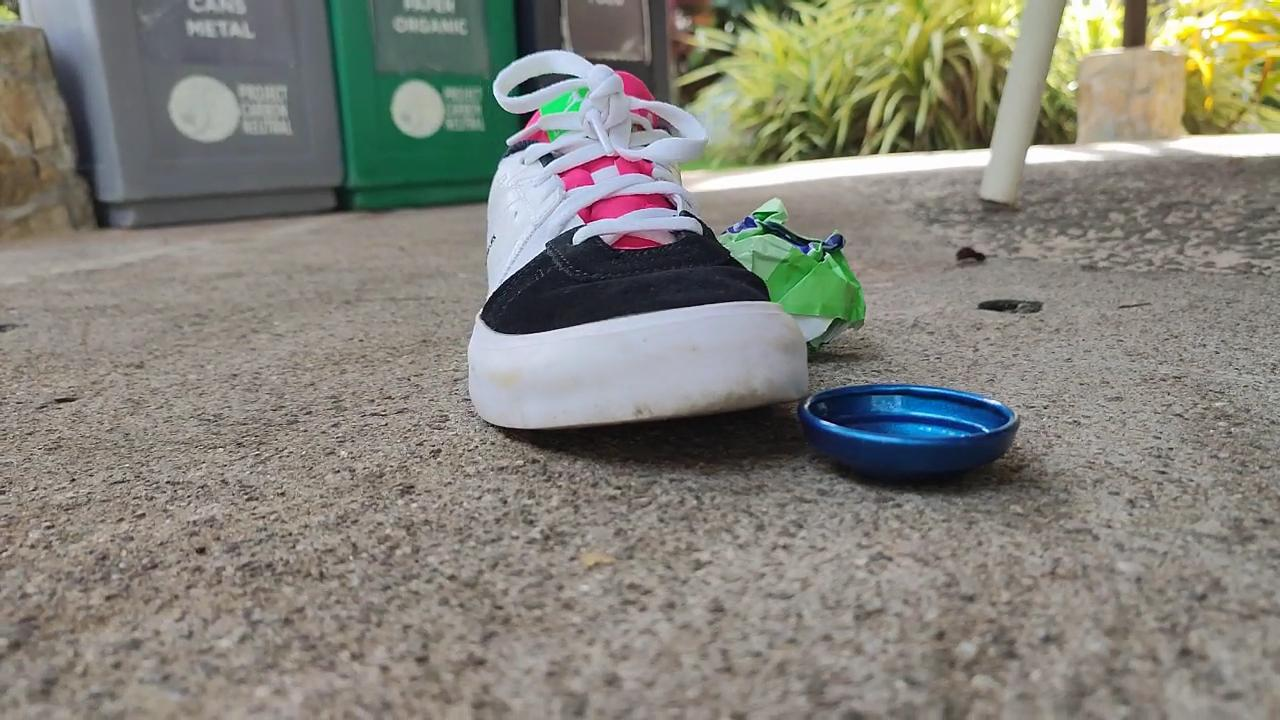Paper: (703, 170, 880, 361)
